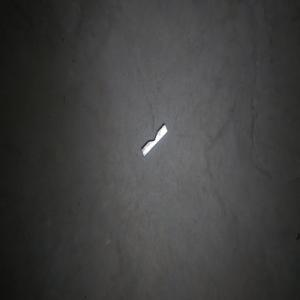ClampPart: (141, 123, 168, 157)
